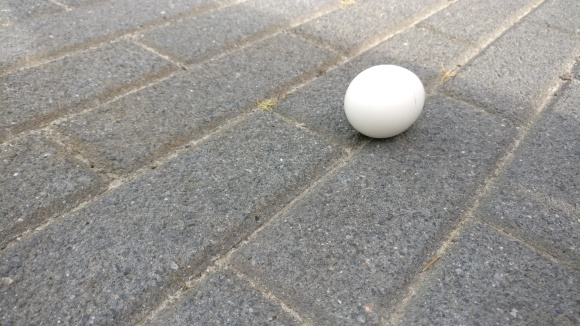egg: (344, 65, 427, 139)
